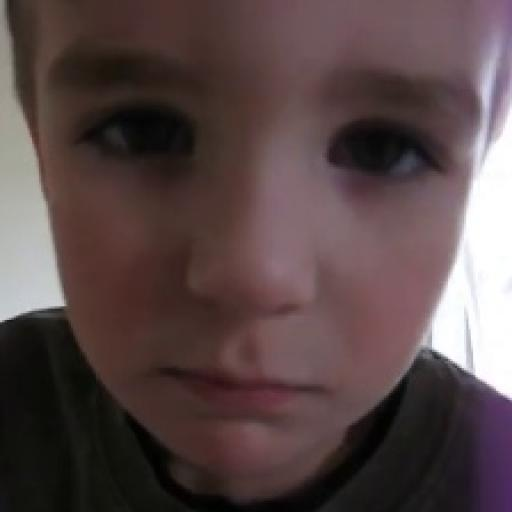Autism: (42, 9, 512, 512)
